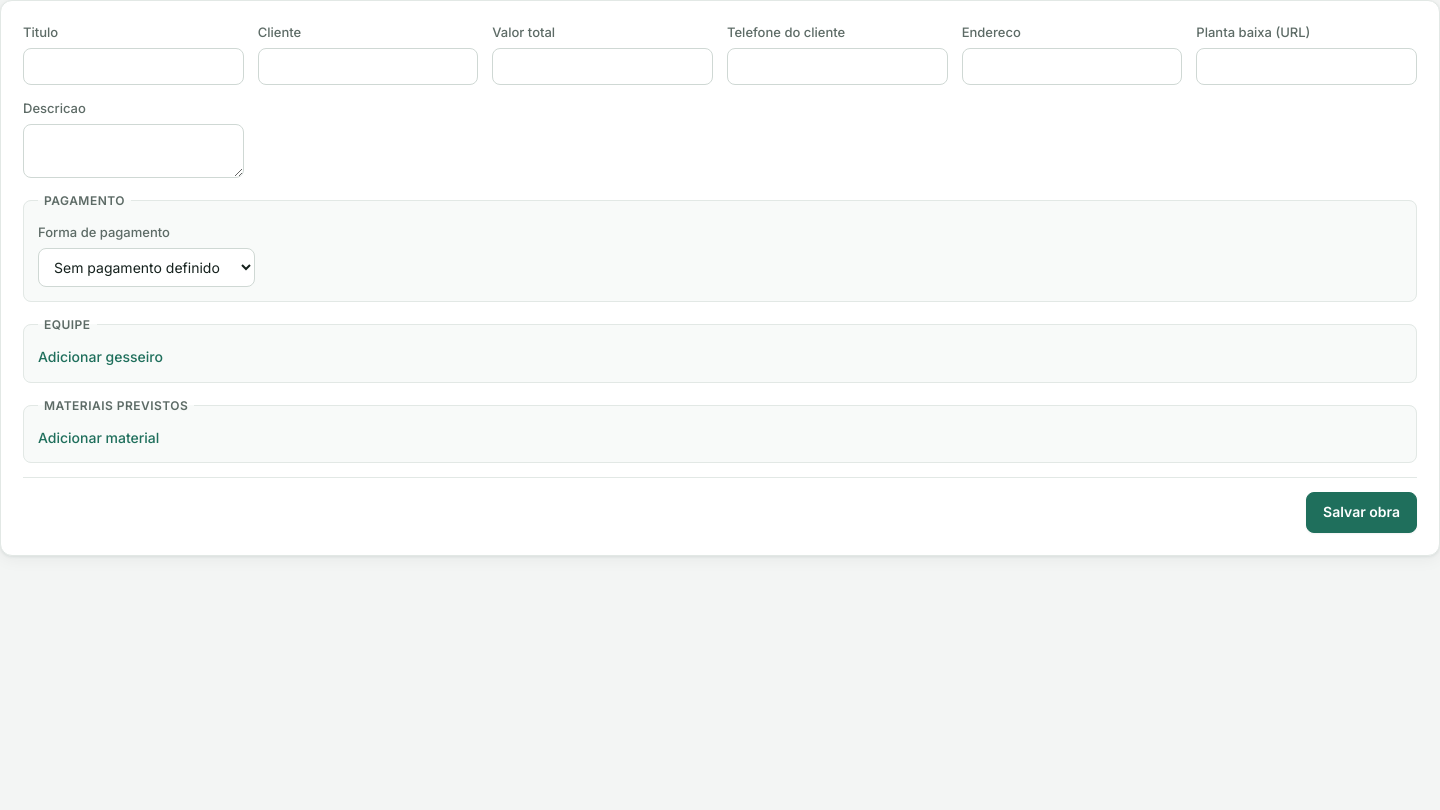
Test: NovaObraForm › cria a obra so com os obrigatorios, valor numerico, e limpa o formulario
This screenshot has width=1440, height=810.
Step 1. Type "Forro sala" into the field labelled "Titulo" → (133, 66), box [23, 48, 244, 85]
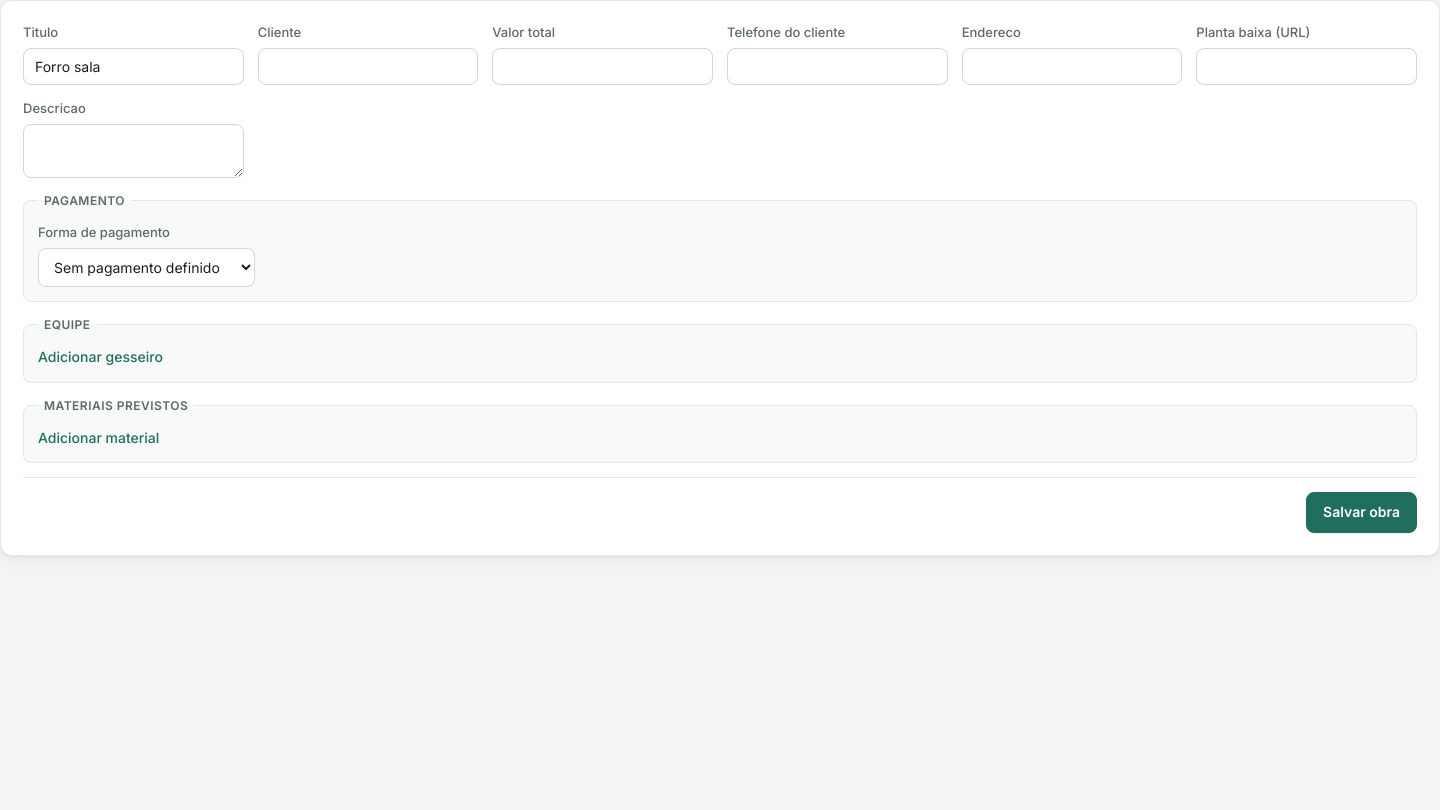
Step 2. Type "Maria Silva" into the field labelled "Cliente" → (368, 66), box [258, 48, 478, 85]
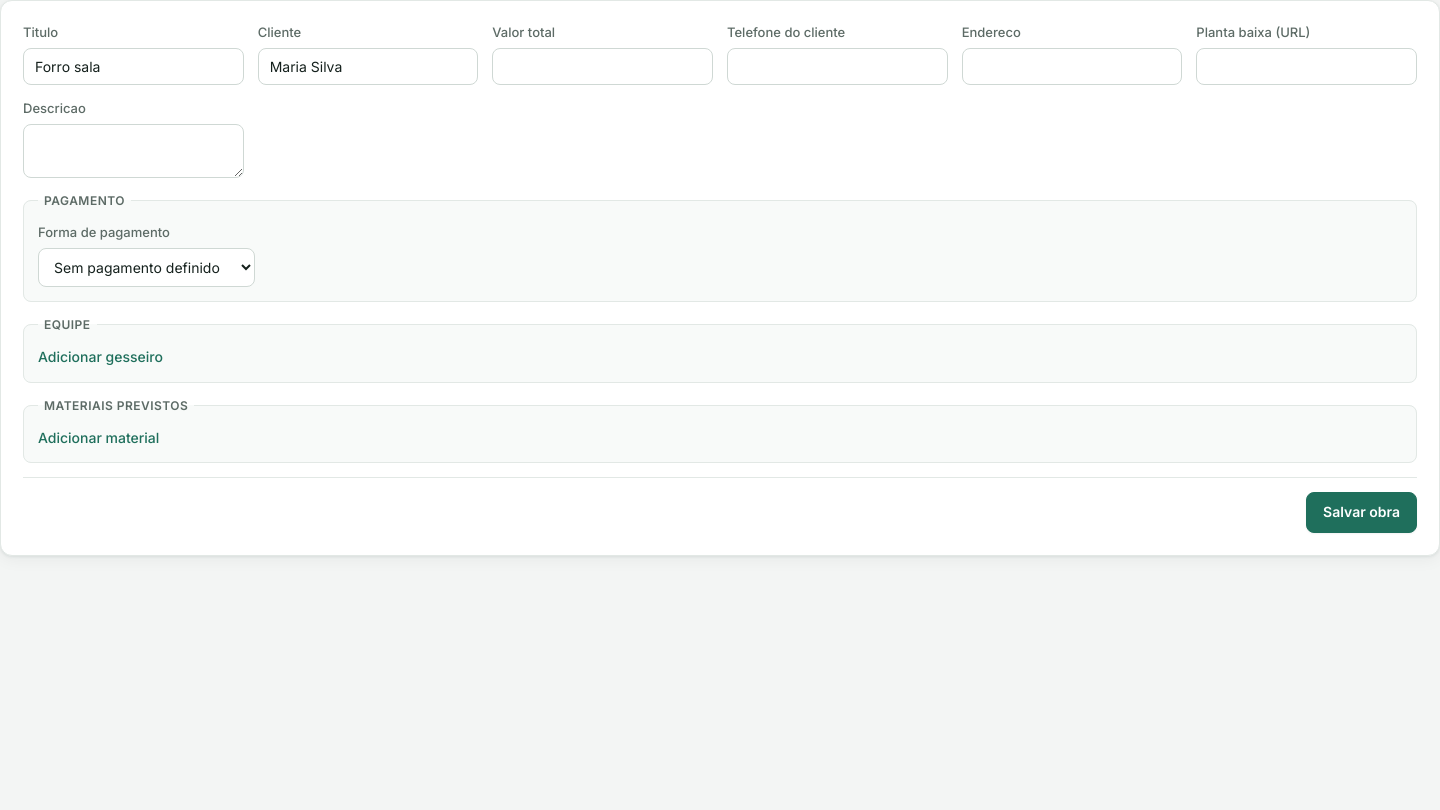
Step 3. Type "8500" into the number field labelled "Valor total" → (603, 66), box [492, 48, 713, 85]
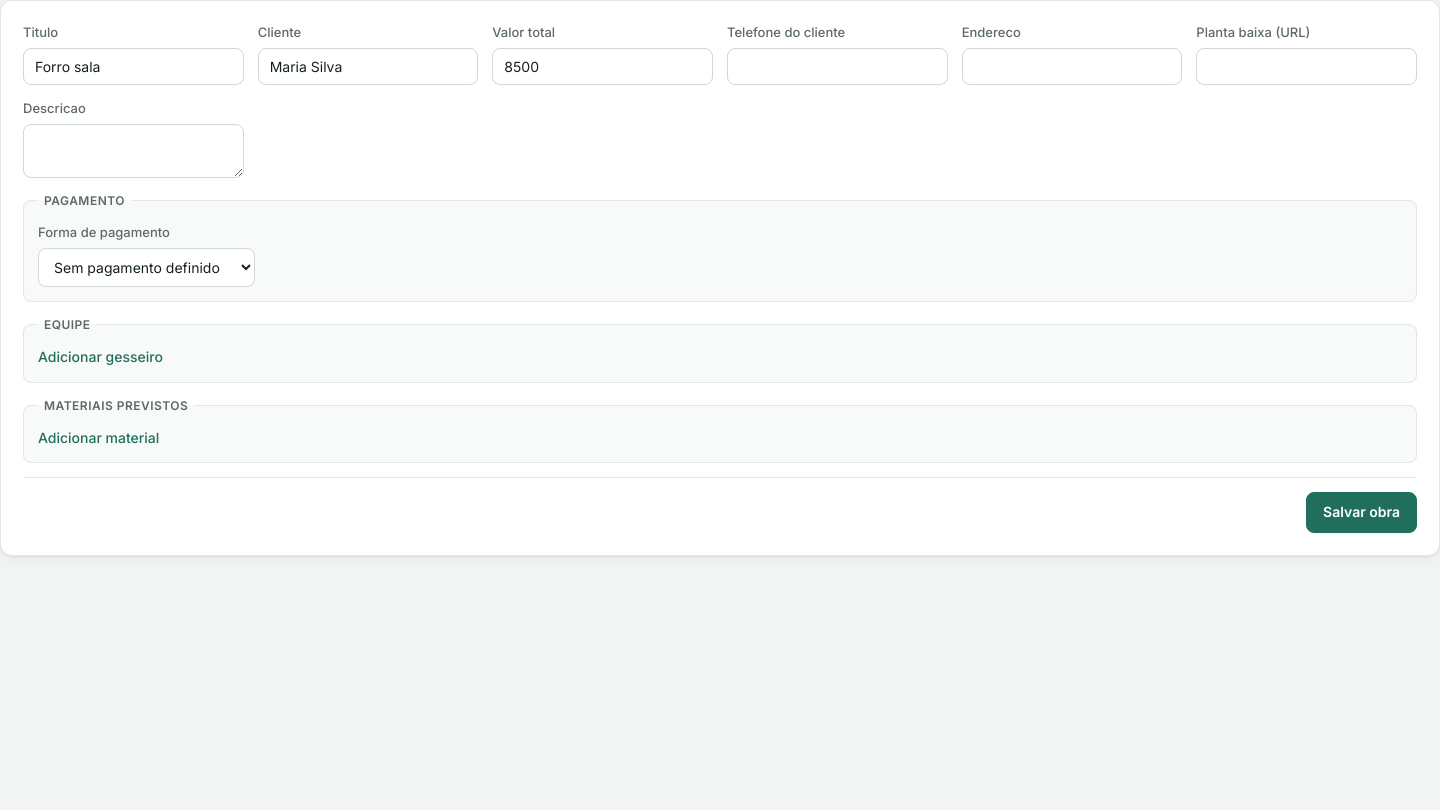
Step 4. Click the button "Salvar obra" → (1362, 512), box [1306, 492, 1417, 533]
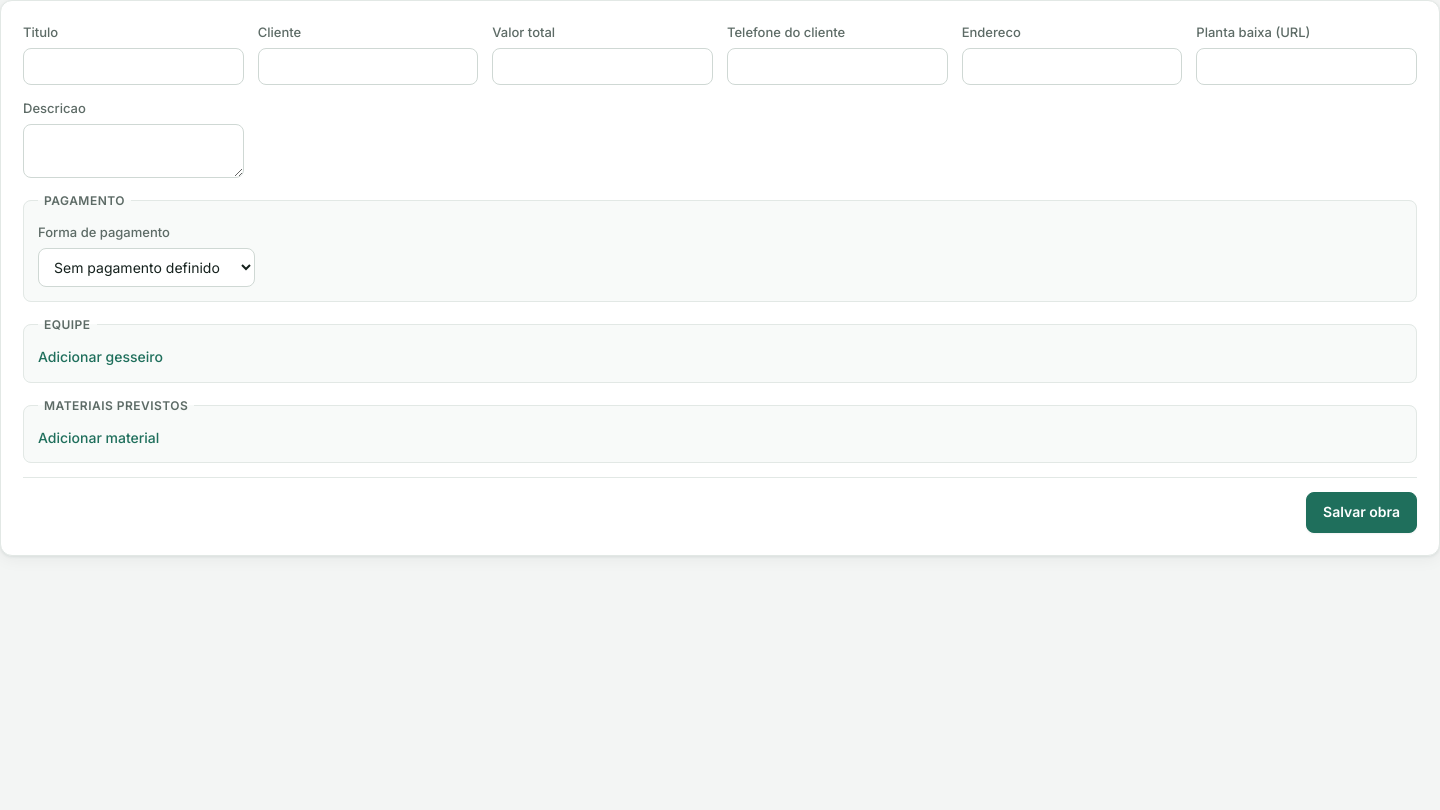
Expected: the field labelled "Titulo" is empty, [23, 48, 244, 85]
Expected: the field labelled "Cliente" is empty, [258, 48, 478, 85]
Expected: the number field labelled "Valor total" is not empty, [492, 48, 713, 85]
